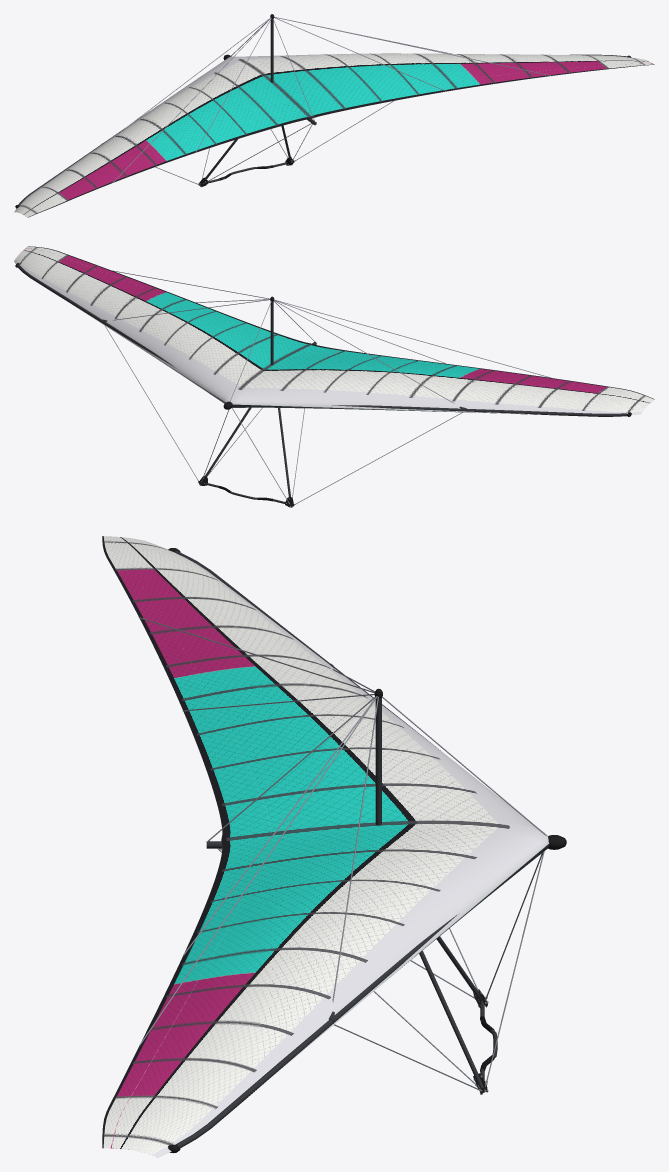
File: glider_aeros_discus.glb
3 renders of one model, top to bottom at view 1: azimuth 30°, elevation 25°; view 2: azimuth 150°, elevation 25°; view 3: azimuth 270°, elevation 25°, orthographic. The views are drawn at different scales.
Parts seen in each view (by area): view 1: Sail, Frame, ControlFrame; view 2: Sail, Frame, ControlFrame; view 3: Sail, Frame, ControlFrame.
Boxes of the visible parts, box(x1,y1,x2,y2) form: Sail: box(14, 53, 654, 217); Frame: box(15, 14, 631, 208); ControlFrame: box(155, 101, 393, 187); Sail: box(14, 246, 654, 415); Frame: box(15, 263, 631, 416); ControlFrame: box(105, 326, 462, 507); Sail: box(102, 536, 549, 1157); Frame: box(138, 548, 566, 1153); ControlFrame: box(217, 848, 544, 1094).
Size of the model in its own units: 10 by 2.76 by 3.21.
Materials: 8 (1 with a texture image).
